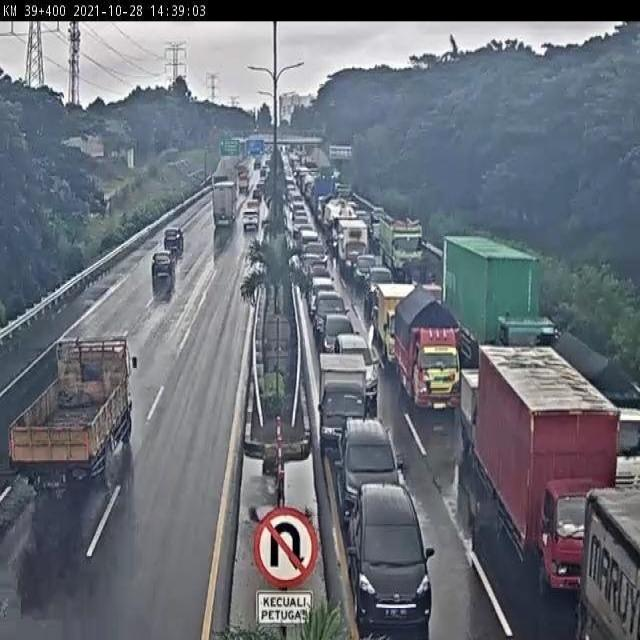Car: (346, 482, 435, 640), (332, 415, 406, 514), (334, 332, 379, 398), (149, 251, 176, 292), (366, 268, 394, 307), (322, 314, 354, 346), (355, 254, 378, 284), (161, 228, 186, 255)
Truck: (473, 342, 616, 586), (6, 336, 139, 502), (444, 233, 560, 351), (579, 481, 640, 640), (394, 282, 462, 416), (316, 353, 373, 448), (379, 215, 428, 270), (378, 285, 417, 352), (338, 219, 369, 275), (210, 174, 238, 231)
